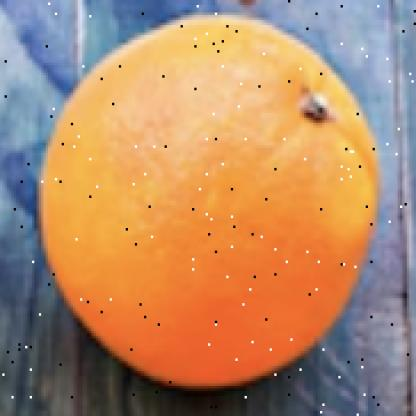fresh: (40, 19, 379, 388)
